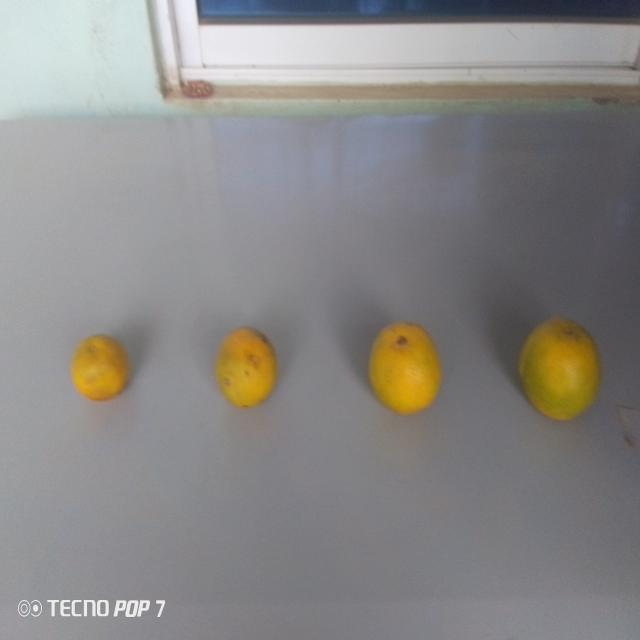Ripe orange: (510, 306, 603, 426), (365, 314, 452, 417), (209, 320, 286, 425), (61, 325, 137, 408)
